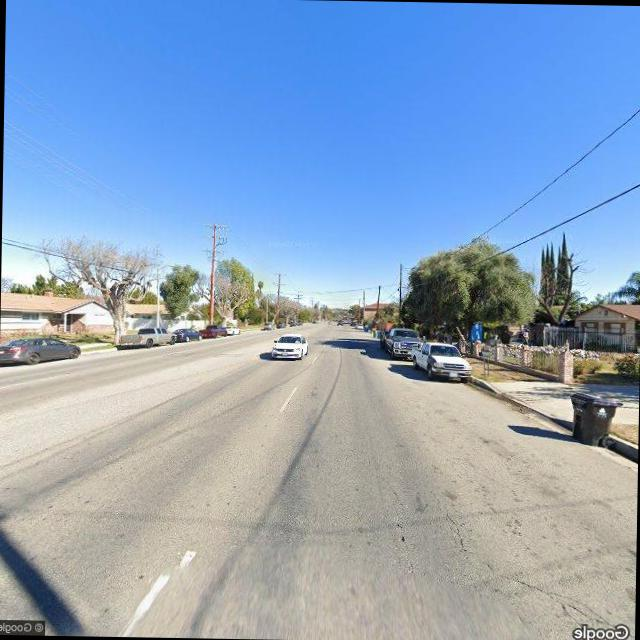pothole: (420, 488, 612, 625)
